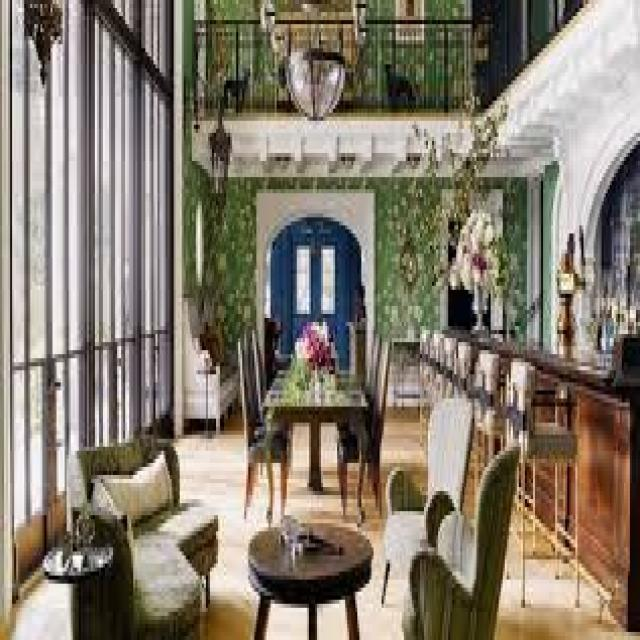Chair: (415, 332, 581, 574), (60, 433, 216, 640), (384, 398, 504, 640)
Table: (263, 308, 374, 490), (238, 503, 374, 640)
